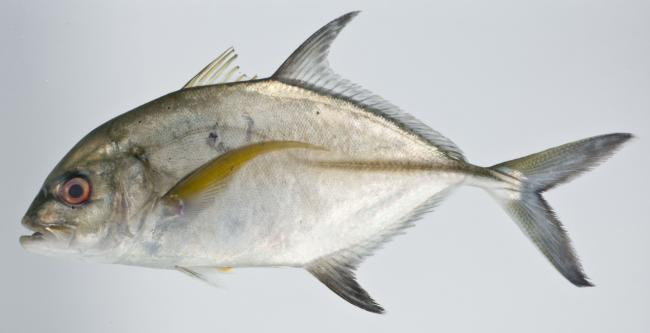fish: (20, 12, 637, 315)
